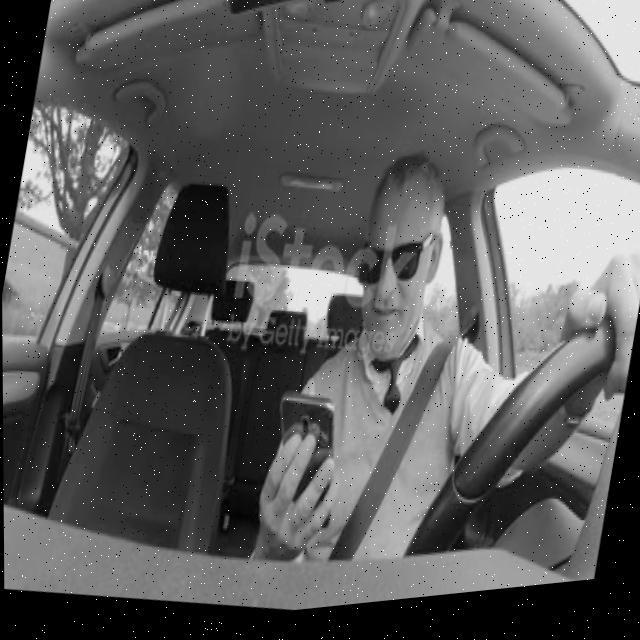PhoneCall: (255, 388, 352, 548)
